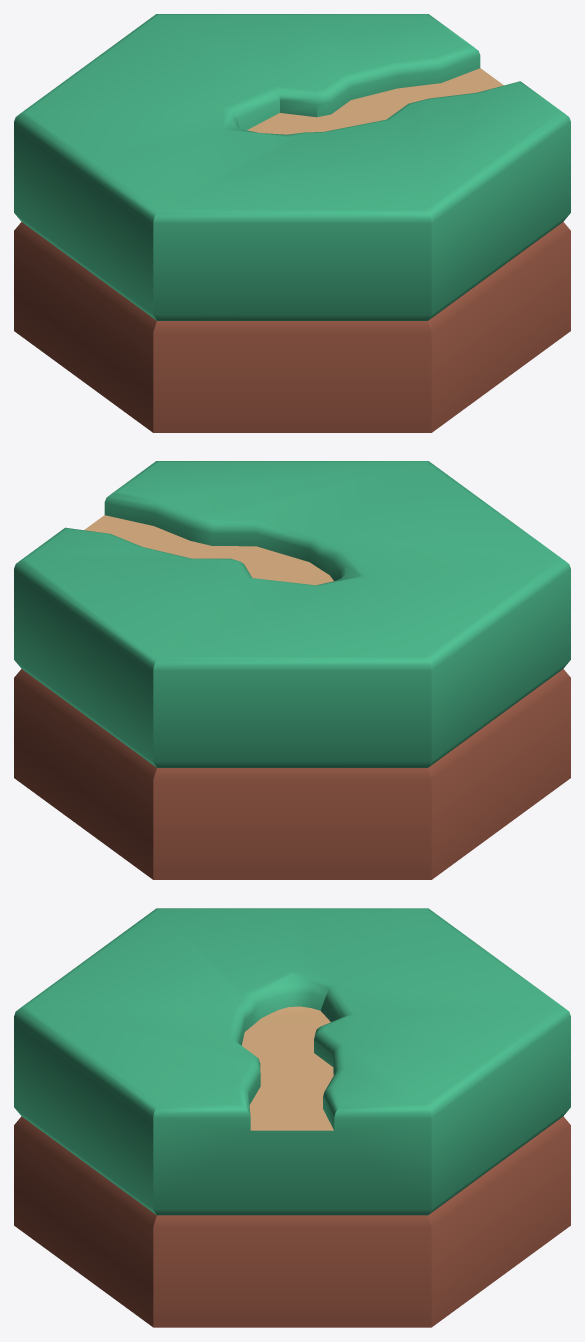
File: kaykit-hex-forest-roada-detail.glb
The picture shows the model from 3 angles, top to bottom: view 1: azimuth 30°, elevation 25°; view 2: azimuth 150°, elevation 25°; view 3: azimuth 270°, elevation 25°; orthographic projection.
Visible parts, largest first — view 1: hex_forest_roadA_detail; view 2: hex_forest_roadA_detail; view 3: hex_forest_roadA_detail.
Part boxes in pixels (bbox=[...]): hex_forest_roadA_detail: bbox=[14, 14, 570, 432]; hex_forest_roadA_detail: bbox=[14, 461, 570, 879]; hex_forest_roadA_detail: bbox=[14, 908, 570, 1327].
Size of the model in its own units: 2 by 1 by 2.31.
